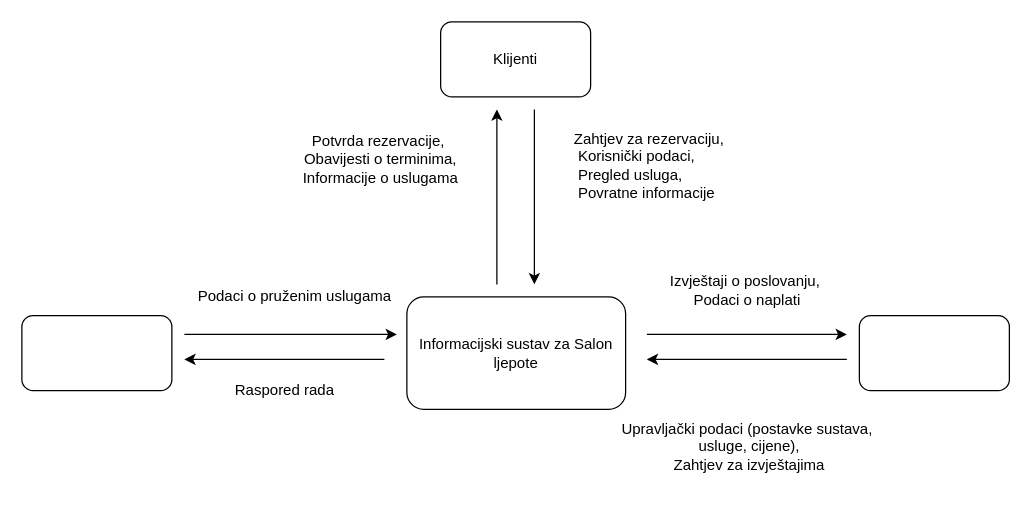
Image size: 1031x506. Some labels were removed from this diagram. Here are the shapes that lost their labels. From the top down, the box of each, then its label:
(21, 314, 172, 391): Zaposlenici
(858, 314, 1009, 391): Vlasnik
